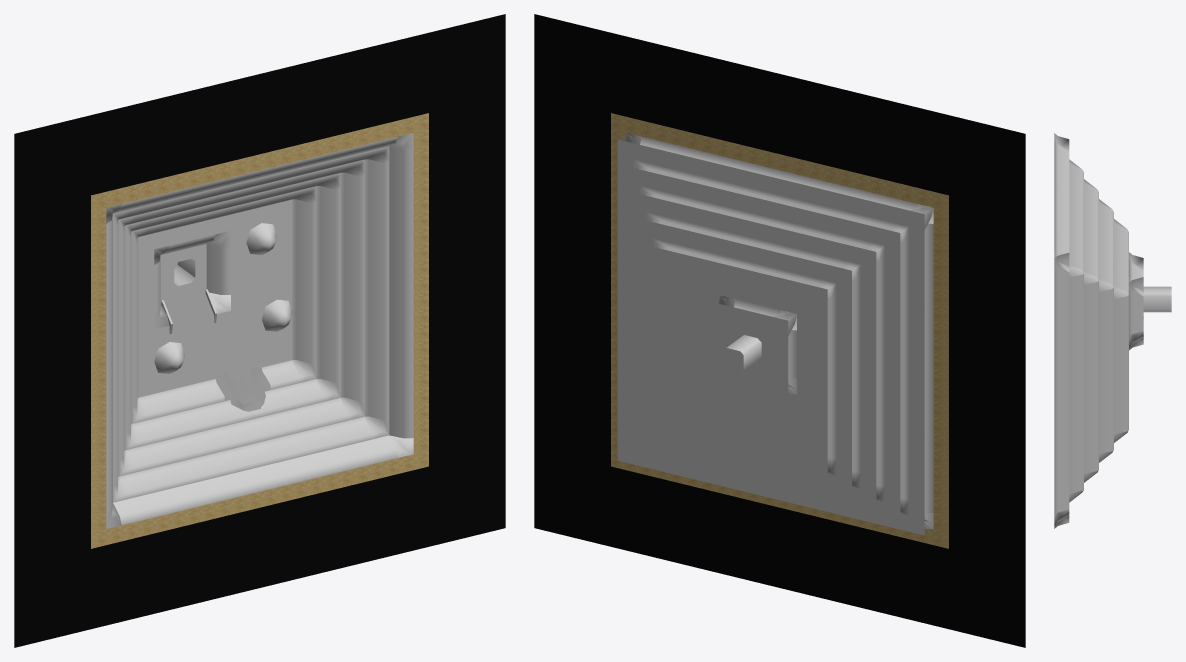
The model's file is Subterranean-Cave-1_00_03.obj.
3 renders of one model, left to right at view 1: azimuth 30°, elevation 25°; view 2: azimuth 150°, elevation 25°; view 3: azimuth 270°, elevation 25°, orthographic. The views are drawn at different scales.
Visible parts, largest first — view 1: map; view 2: map; view 3: map.
Part boxes in pixels (x1,y1,x2,y2): map: (14,14,505,647); map: (534,14,1025,647); map: (1054,133,1171,528).
Size of the model in its own units: 32 by 32 by 7.88.
